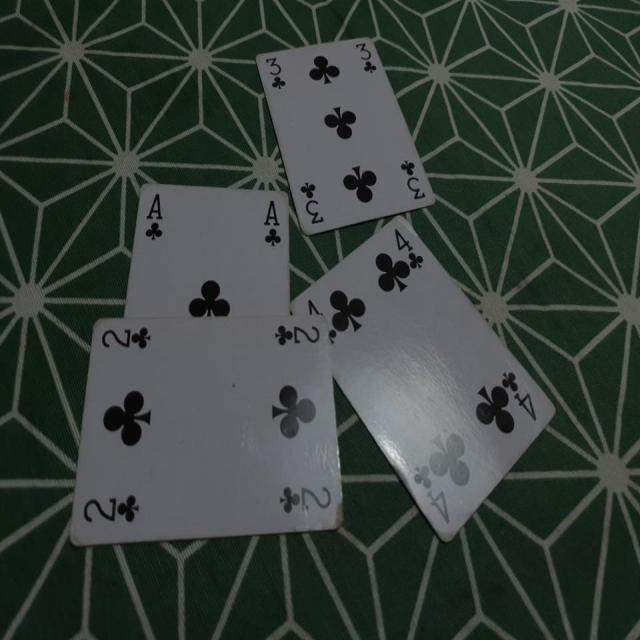2 Trefoils: (64, 314, 345, 549)
3 Trefoils: (254, 35, 436, 238)
4 Trefoils: (291, 217, 558, 546)
A Trefoils: (124, 181, 293, 322)
